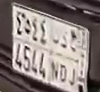4: (38, 19, 47, 79), (31, 17, 40, 75), (14, 10, 22, 69)
5: (21, 19, 31, 72)
D: (58, 35, 69, 82)
J: (68, 33, 78, 86)
N: (50, 31, 61, 82)
